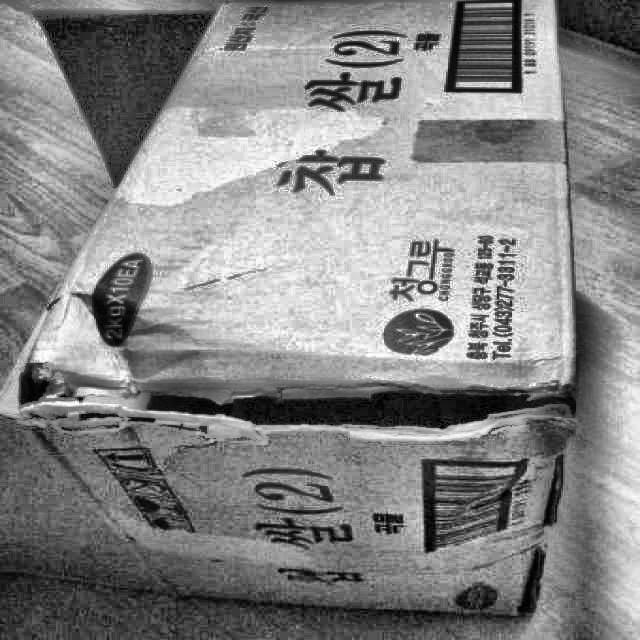box: (0, 0, 591, 632)
hole: (14, 364, 572, 454)
